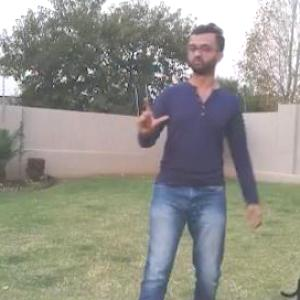land_hand: (132, 90, 172, 142)
